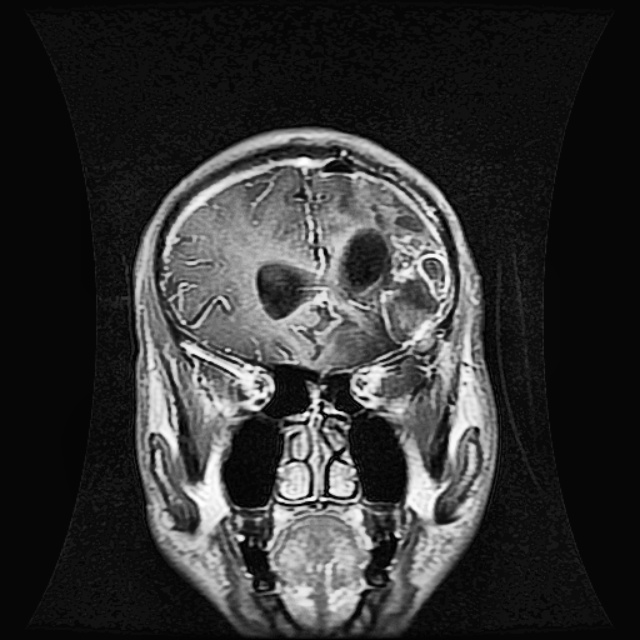Meningioma: (330, 215, 449, 367)
